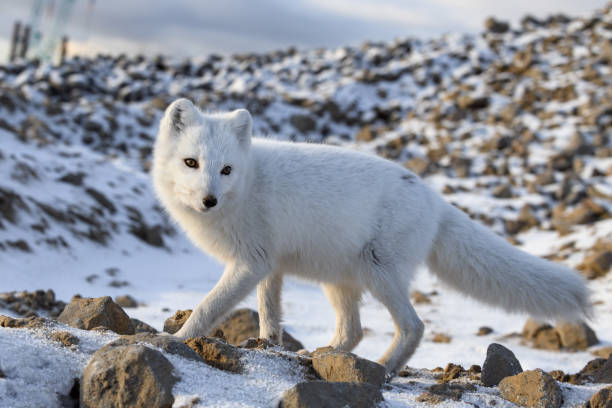arcticfox: (160, 108, 243, 218)
